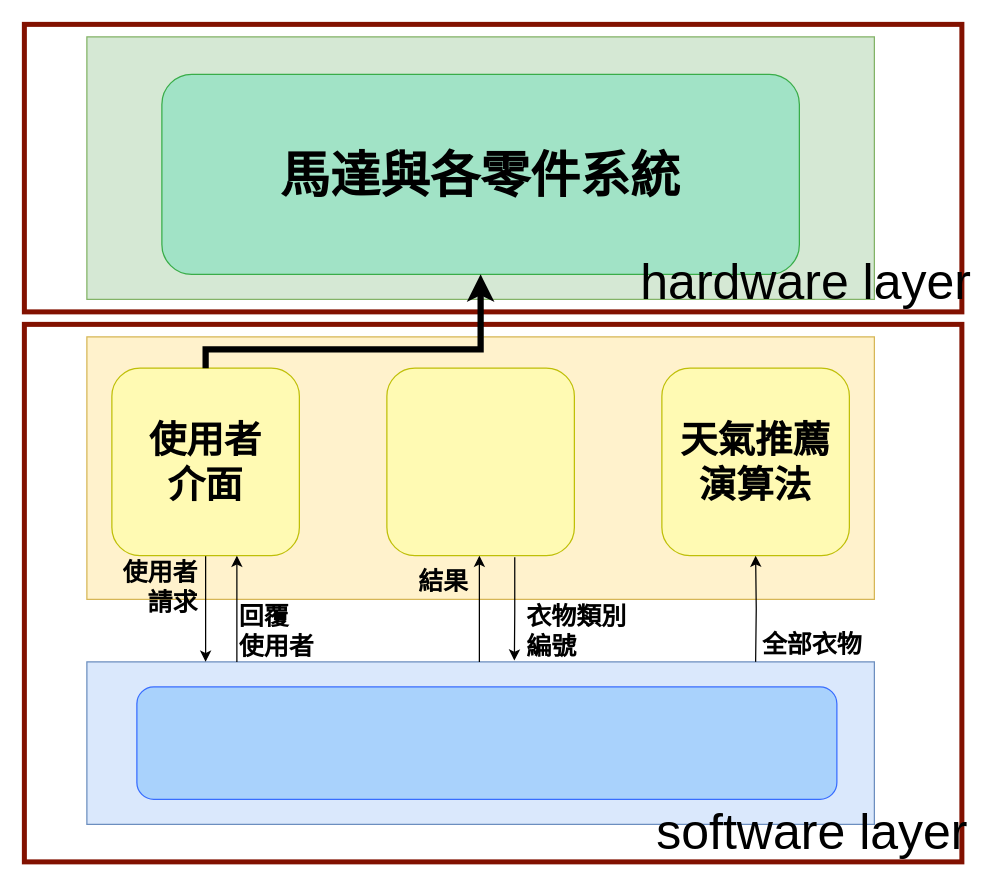
This 991x885 diagram has some shape labels left out. Here are the shapes that lost their labels. From the top down, the box of each, then its label:
(386, 367, 574, 556): 衣物辨識
(136, 686, 837, 799): 資料庫
